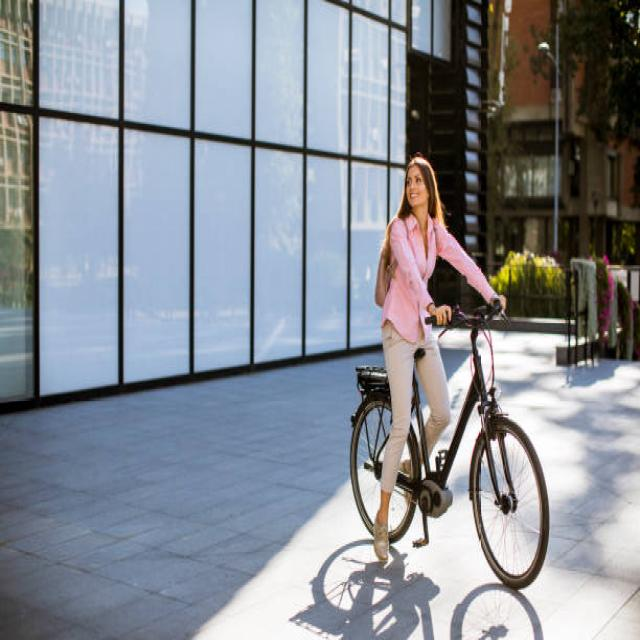bicycle: (350, 158, 549, 589)
